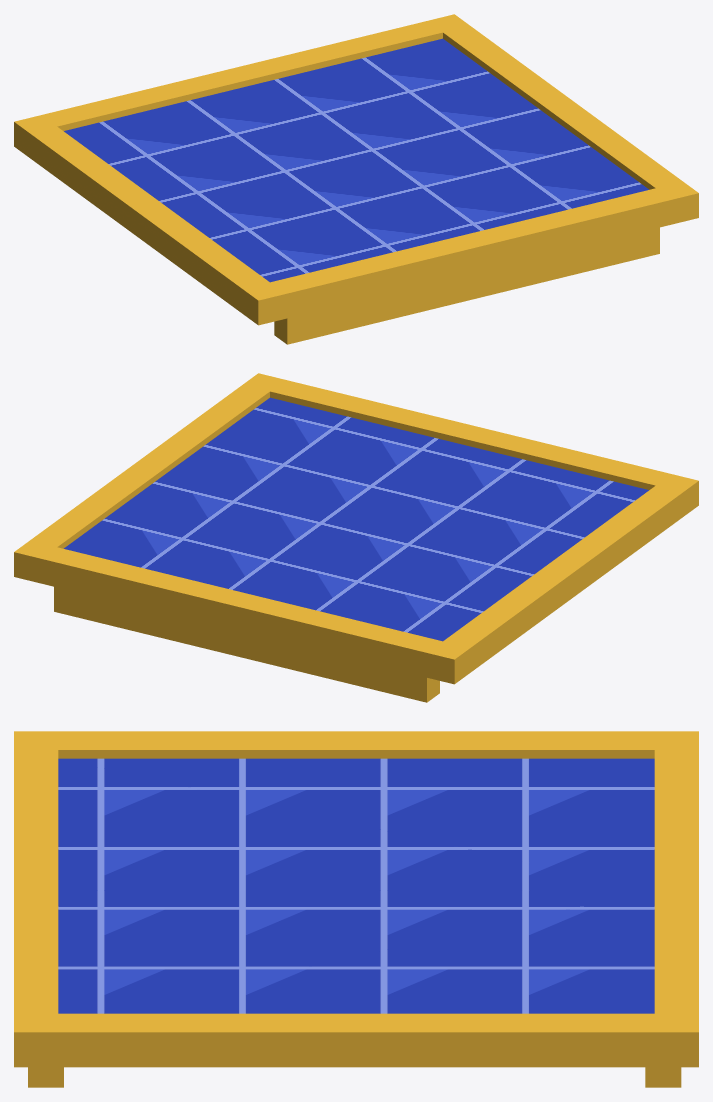
Rendered from Solar 1.fbx.
3 views of the same model, one above another, from view 1: azimuth 30°, elevation 25°; view 2: azimuth 150°, elevation 25°; view 3: azimuth 270°, elevation 25° (orthographic). The views are drawn at different scales.
Parts seen in each view (by area): view 1: Solar 1; view 2: Solar 1; view 3: Solar 1.
Part boxes in pixels (x1,y1,x2,y2): Solar 1: (14,14,698,344); Solar 1: (14,373,698,702); Solar 1: (14,731,698,1087).
Bounding box in the file's own units: 10.37 × 1.26 × 9.96.
